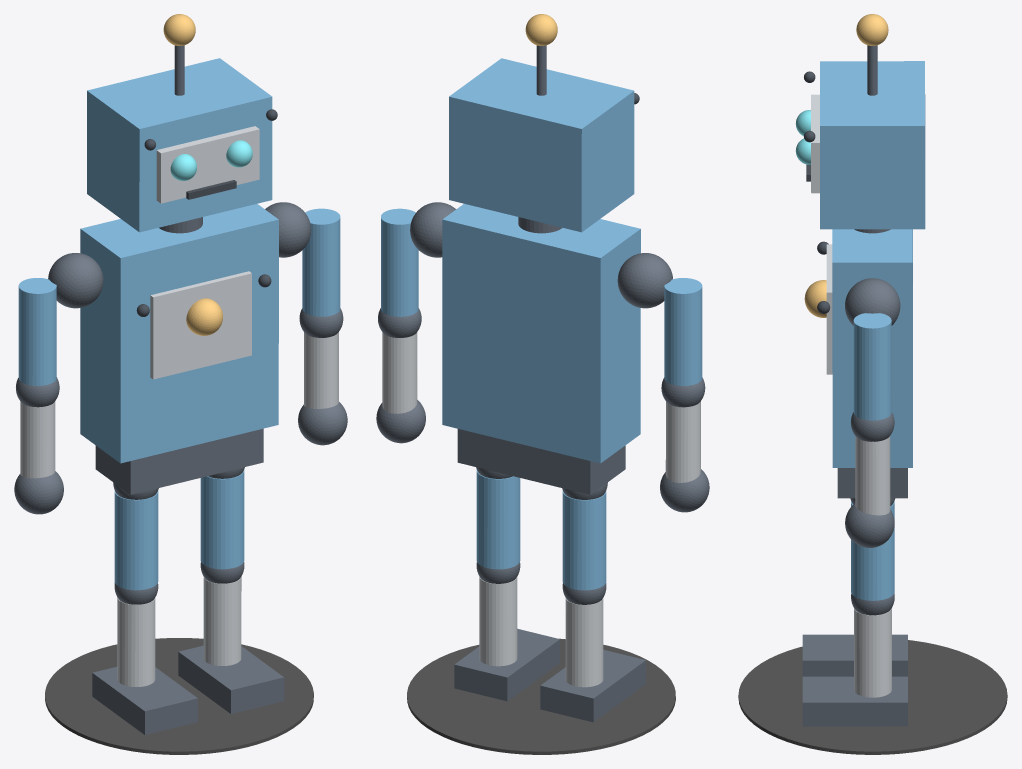
File: robot.glb
3 renders of one model, left to right at view 1: azimuth 30°, elevation 25°; view 2: azimuth 150°, elevation 25°; view 3: azimuth 270°, elevation 25°, orthographic.
Visible parts, largest first — view 1: torso, head, thin_display_base, chest_panel, hip_block, right_foot, left_foot, face_plate, left_upper_leg, right_upper_leg, left_upper_arm, right_upper_arm (+16 smaller); view 2: torso, head, thin_display_base, hip_block, left_foot, right_foot, left_upper_leg, right_upper_leg, left_upper_arm, right_upper_arm, left_lower_leg, right_lower_leg (+11 smaller); view 3: head, thin_display_base, torso, right_foot, right_upper_arm, right_lower_leg, left_foot, right_forearm, right_upper_leg, right_shoulder, right_hand, hip_block (+7 smaller).
Boxes of the visible parts, <box> form: torso: <box>80,204,278,463</box>; head: <box>87,58,272,232</box>; thin_display_base: <box>45,638,313,754</box>; chest_panel: <box>150,271,251,379</box>; hip_block: <box>95,428,263,494</box>; right_foot: <box>178,645,284,713</box>; left_foot: <box>92,666,197,734</box>; face_plate: <box>156,126,259,203</box>; left_upper_leg: <box>114,490,158,590</box>; right_upper_leg: <box>200,470,244,569</box>; left_upper_arm: <box>18,278,56,385</box>; right_upper_arm: <box>302,208,340,316</box>; torso: <box>442,203,640,463</box>; head: <box>449,58,634,232</box>; thin_display_base: <box>407,638,675,754</box>; hip_block: <box>457,429,625,494</box>; left_foot: <box>540,649,645,722</box>; right_foot: <box>454,628,559,701</box>; left_upper_leg: <box>562,490,606,590</box>; right_upper_leg: <box>476,470,520,569</box>; left_upper_arm: <box>664,278,702,385</box>; right_upper_arm: <box>381,208,418,316</box>; left_lower_leg: <box>565,598,603,687</box>; right_lower_leg: <box>479,576,517,666</box>; head: <box>820,61,925,229</box>; thin_display_base: <box>738,640,1007,754</box>; torso: <box>832,229,912,467</box>; right_foot: <box>802,676,907,726</box>; right_upper_arm: <box>853,313,891,420</box>; right_lower_leg: <box>854,608,891,697</box>; left_foot: <box>802,634,907,676</box>; right_forearm: <box>855,436,890,515</box>; right_upper_leg: <box>851,501,894,600</box>; right_shoulder: <box>845,278,900,325</box>; right_hand: <box>845,503,894,547</box>; hip_block: <box>837,468,907,498</box>.
Bounding box in the file's own units: 2.58 × 5.15 × 1.84.
